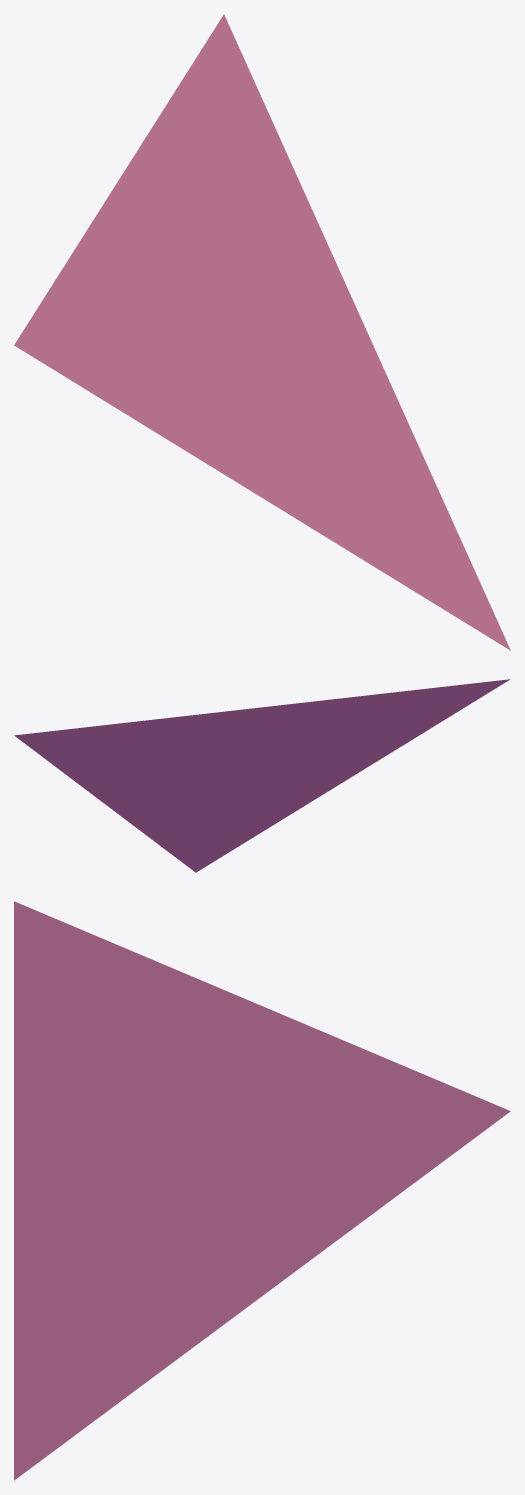
Rendered from Module_Diagonal_Joint_Mesh_v01_Corner.fbx.
The picture shows the model from 3 angles, top to bottom: view 1: azimuth 30°, elevation 25°; view 2: azimuth 150°, elevation 25°; view 3: azimuth 270°, elevation 25°; orthographic projection. The views are drawn at different scales.
Parts seen in each view (by area): view 1: Module_Diagonal_Joint_Mesh_v01_Corner; view 2: Module_Diagonal_Joint_Mesh_v01_Corner; view 3: Module_Diagonal_Joint_Mesh_v01_Corner.
Part boxes in pixels (bbox=[...]): Module_Diagonal_Joint_Mesh_v01_Corner: bbox=[14, 14, 510, 650]; Module_Diagonal_Joint_Mesh_v01_Corner: bbox=[14, 679, 509, 872]; Module_Diagonal_Joint_Mesh_v01_Corner: bbox=[14, 901, 510, 1480].
Bounding box in the file's own units: 72.08 × 59.14 × 72.08.
